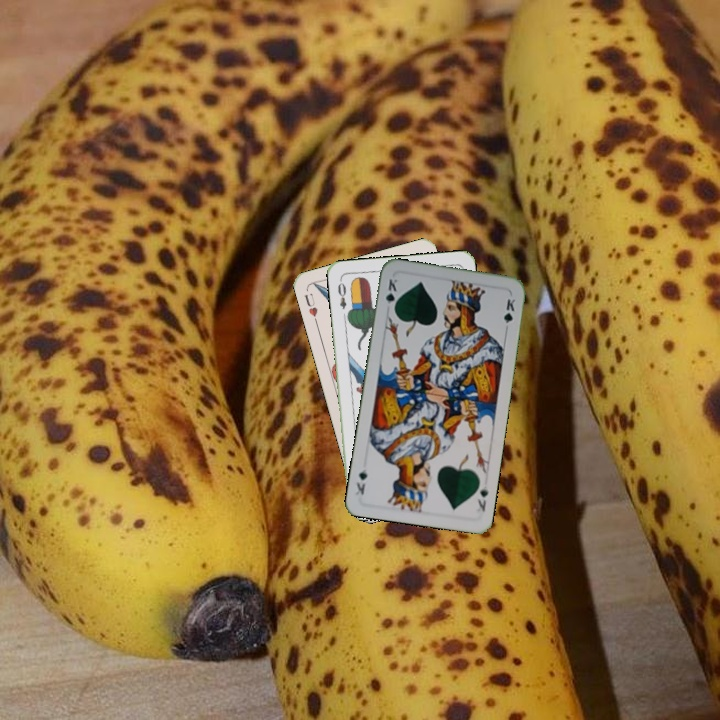EO: (333, 276, 349, 312)
GK: (381, 275, 400, 314), (472, 482, 491, 514)
HU: (300, 289, 320, 326)
